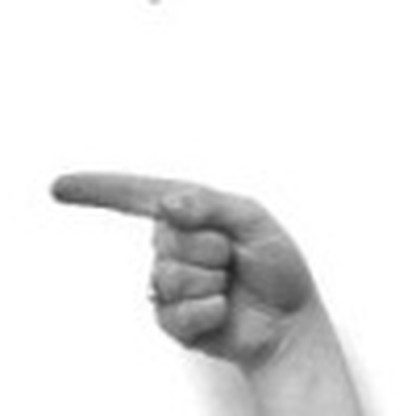g: (47, 159, 314, 365)
